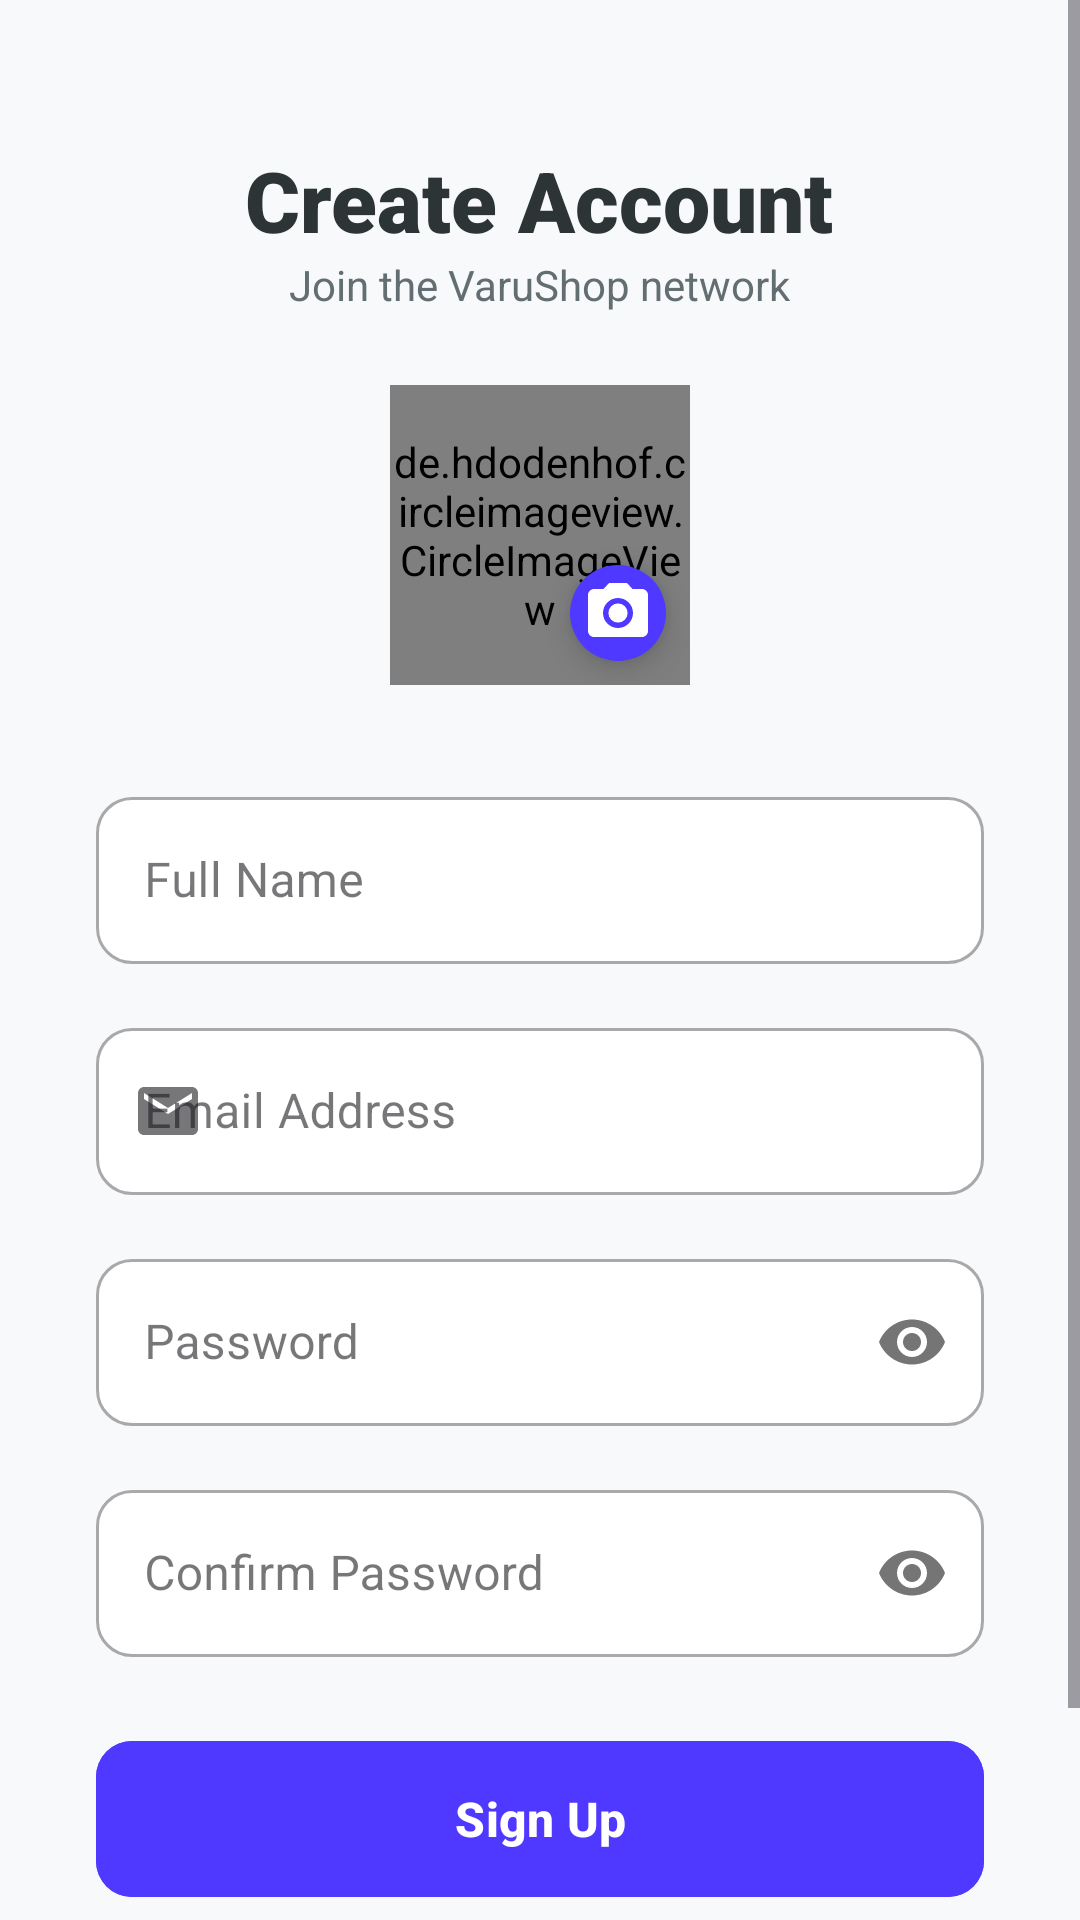

Where icons sit on this 1080x1920 app screen, as (x1, y1, x2, y2):
Pick profile image: (555, 546, 680, 661)
